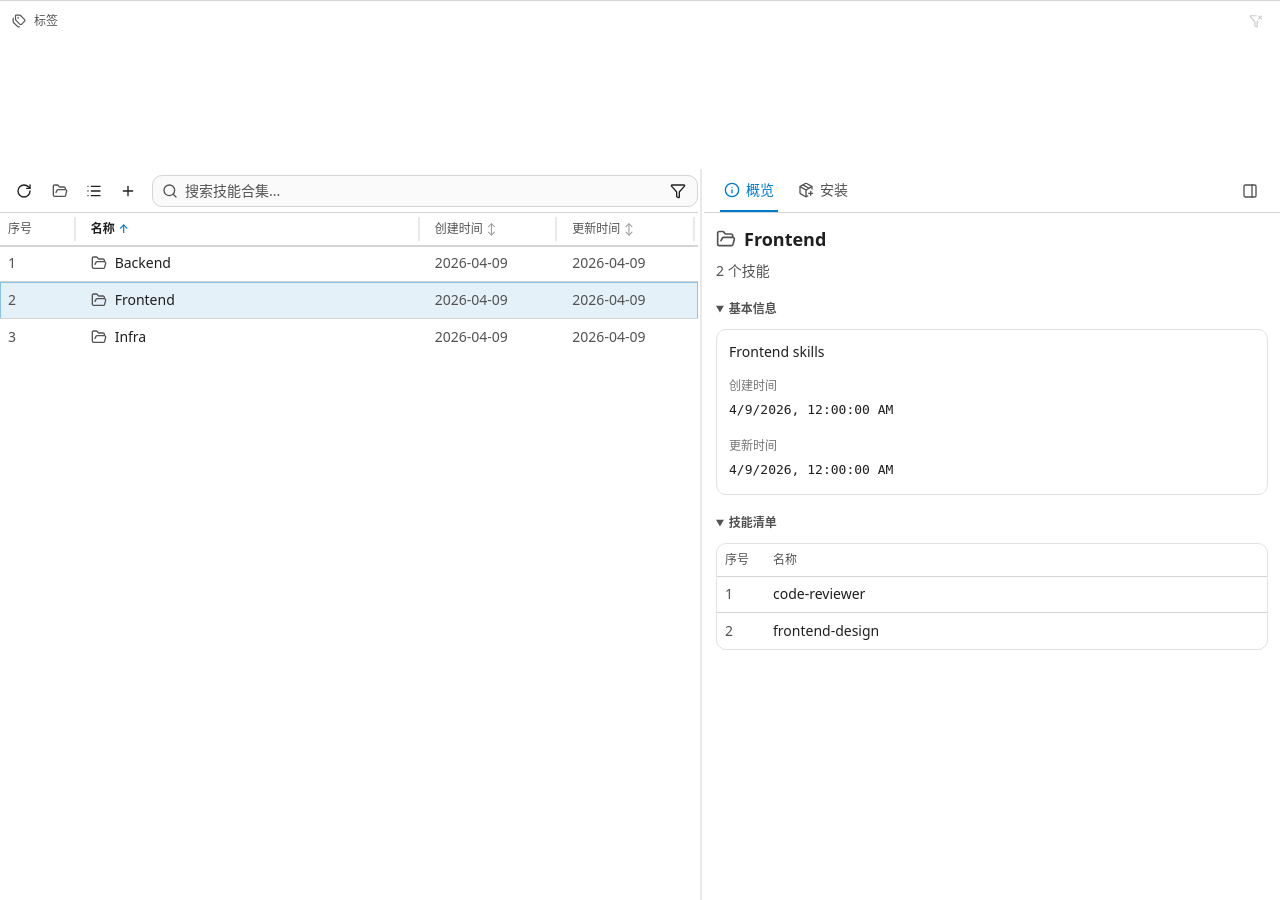
Test: CollectionsListView › filters collections by member tags before opening their details
Press + in the element named "技能列表", box [0, 169, 698, 355]
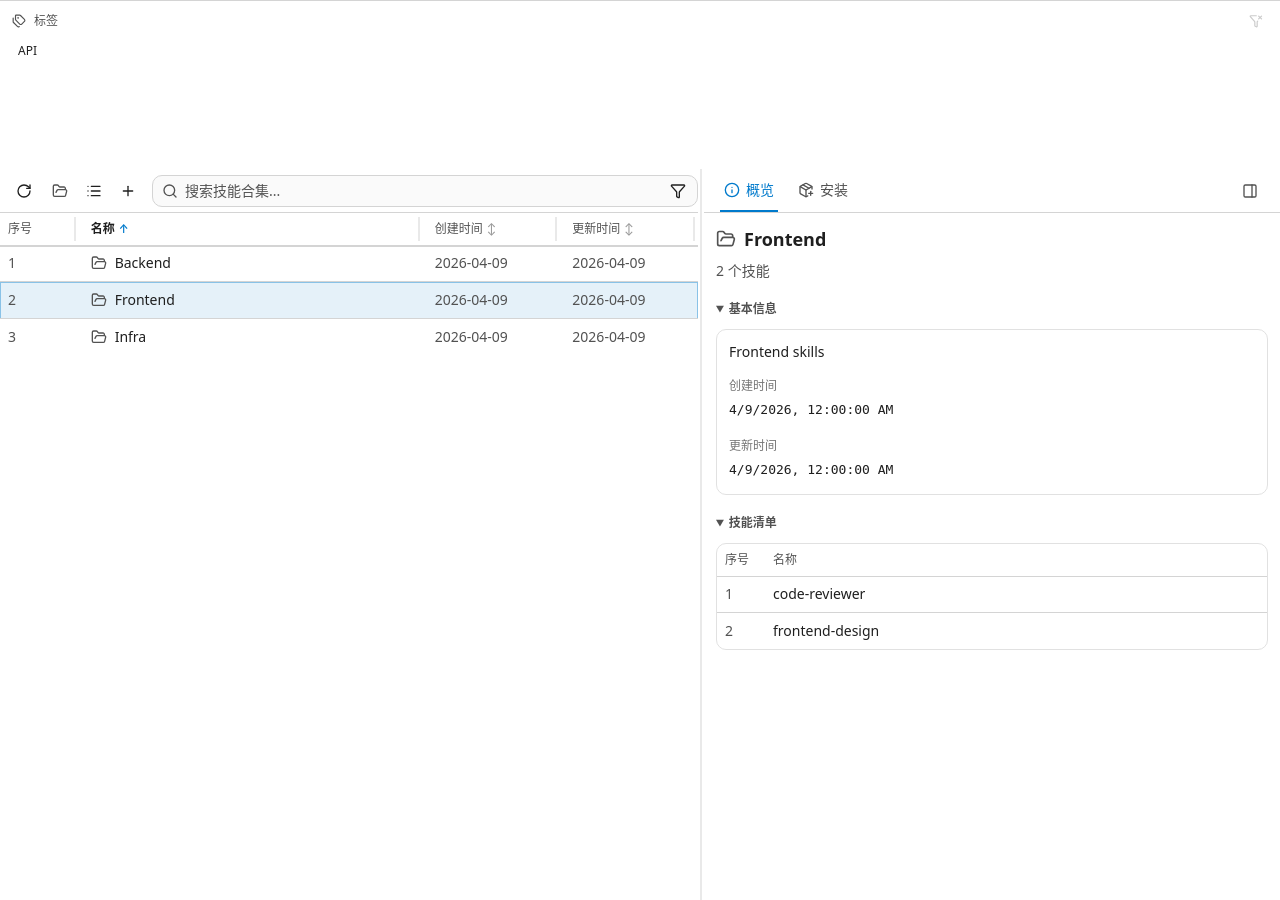
Click the button "API" at point(28, 51), box [12, 41, 43, 61]
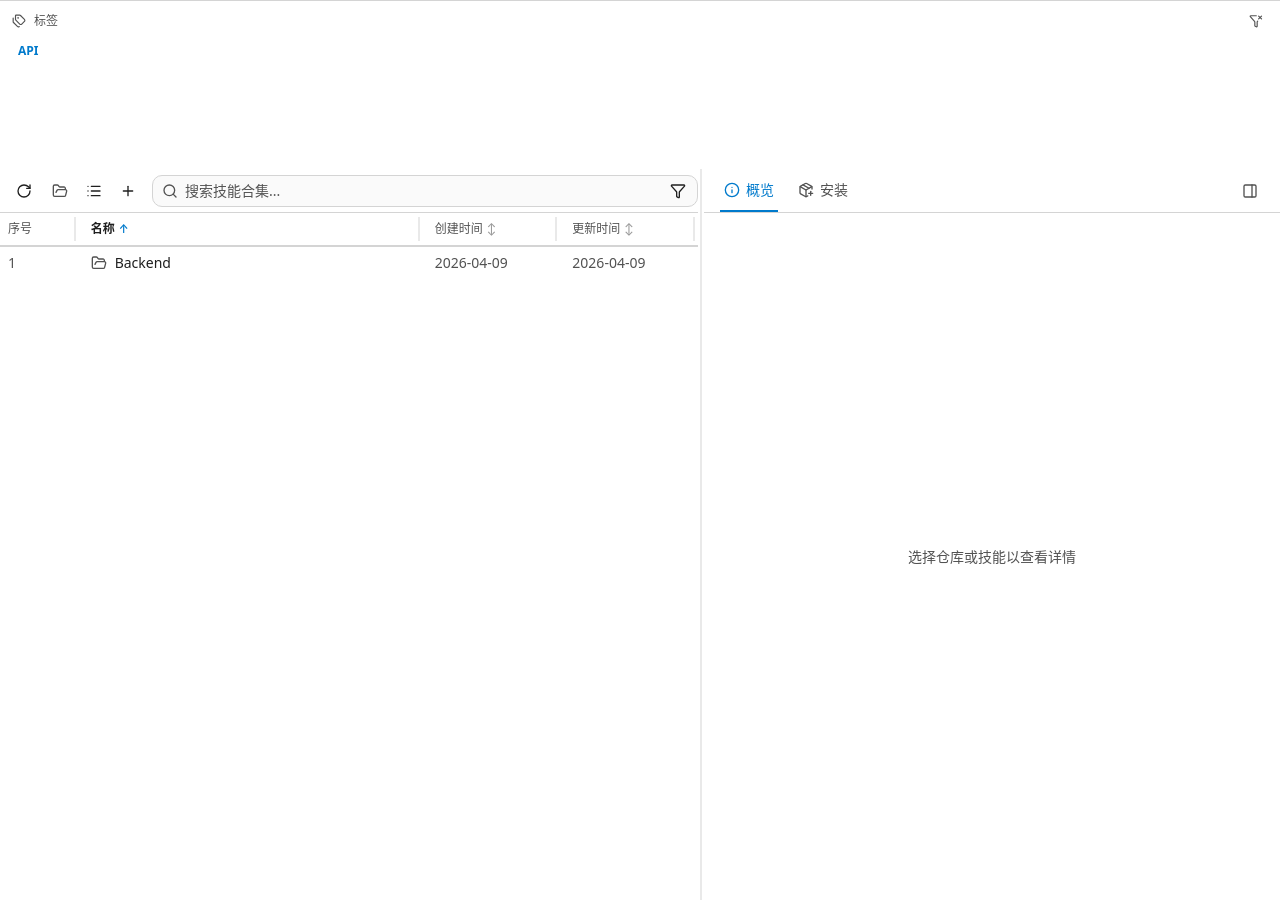
Expected: the button "Backend" is shown, [115, 253, 171, 273]
Expected: the button "Frontend" is gone
Expected: the button "Infra" is gone
Type "Frontend" into the field at point(425, 190), box [152, 174, 698, 206]
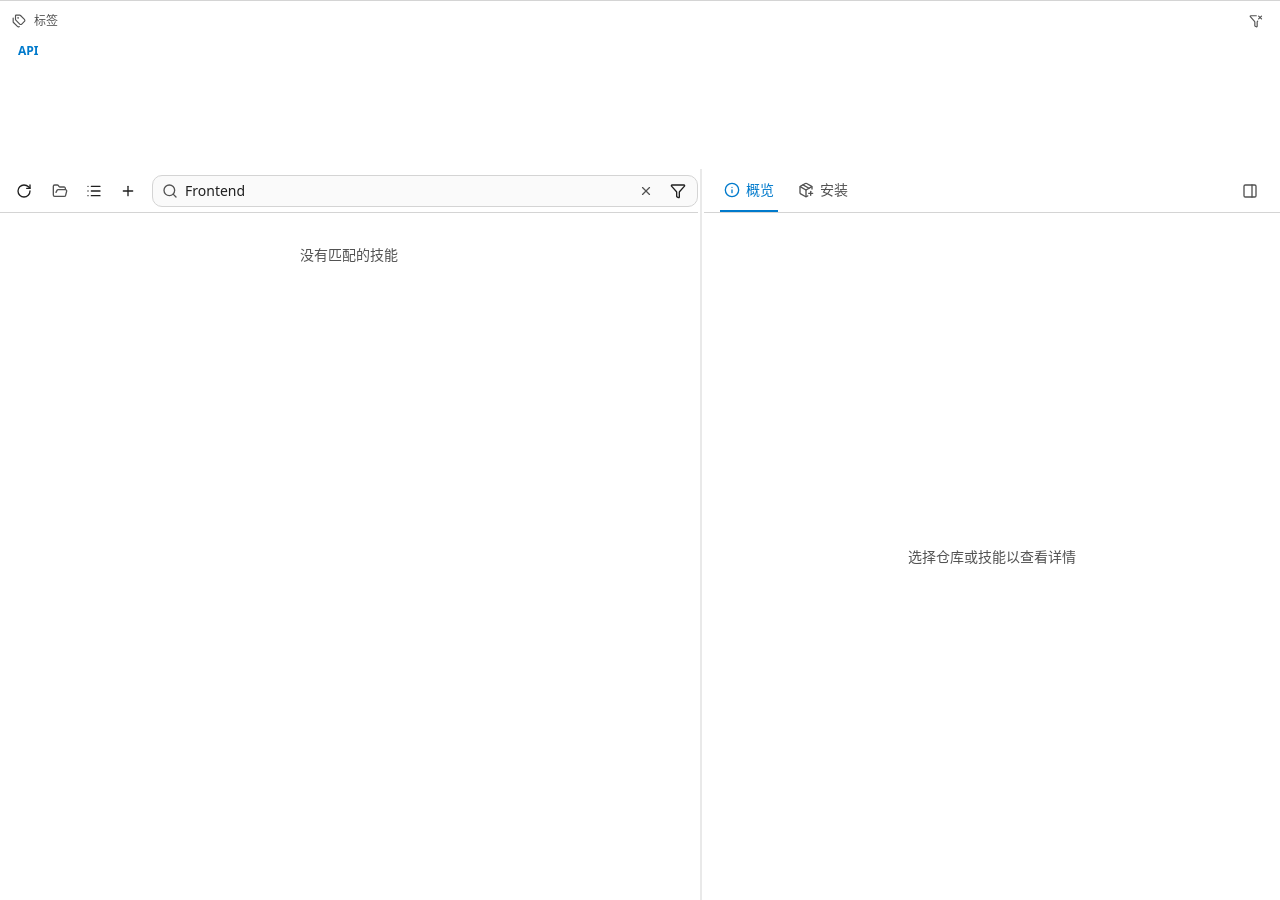
Expected: the button "Backend" is gone
Clear the field at point(425, 190), box [152, 174, 698, 206]
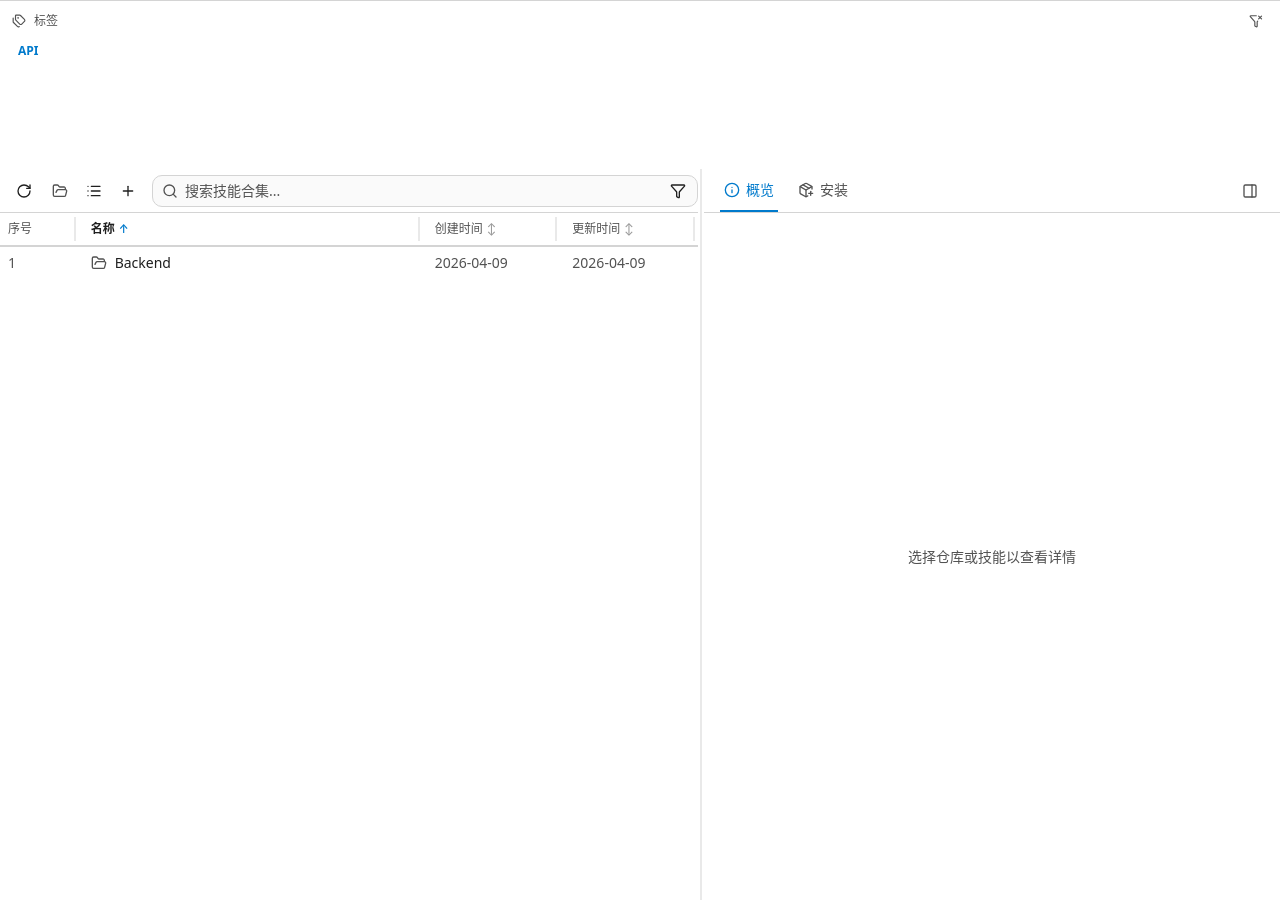
Click the button "API" at point(28, 51), box [12, 41, 44, 61]
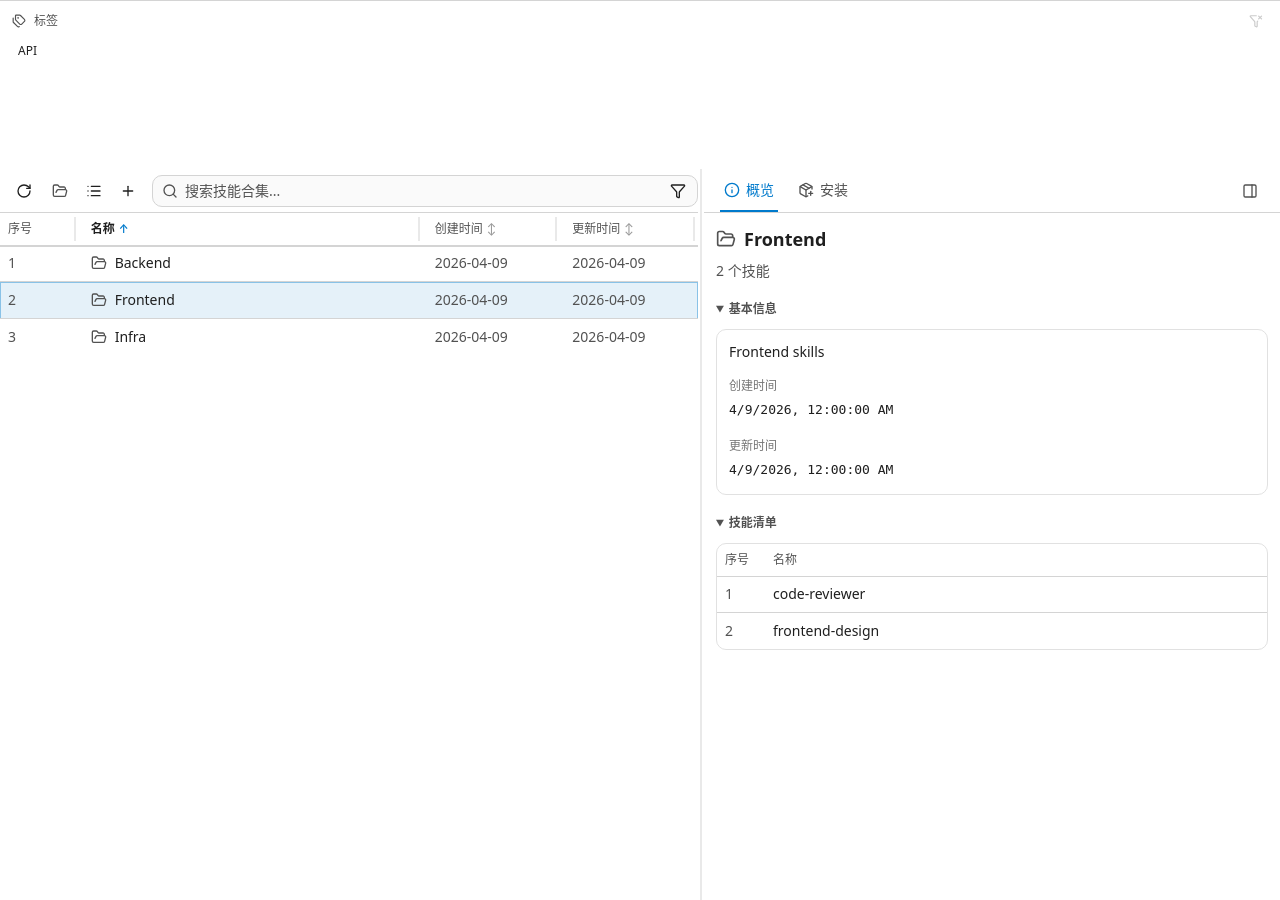
Expected: the button "Frontend" is shown, [115, 290, 175, 310]
Expected: the button "Infra" is shown, [115, 327, 146, 347]
